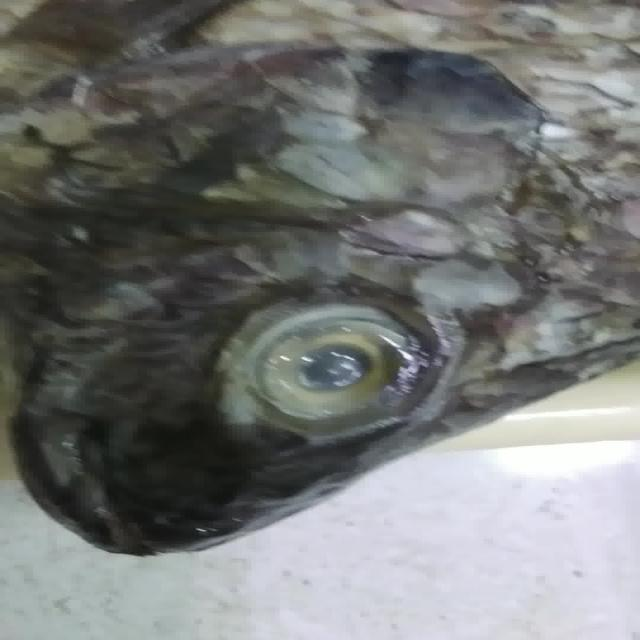Non-Fresh: (229, 294, 447, 442)
